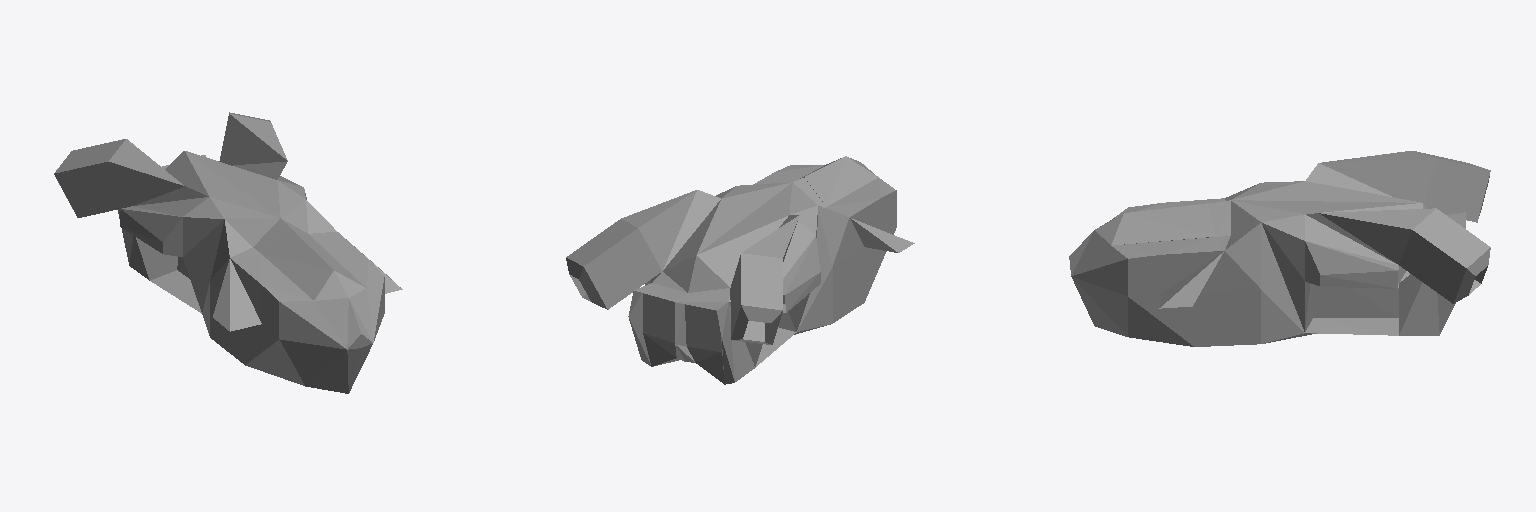
The model's file is destroyer.obj.
3 views of the same model, side by side, from view 1: azimuth 30°, elevation 25°; view 2: azimuth 150°, elevation 25°; view 3: azimuth 270°, elevation 25° (orthographic).
Size of the model in its own units: 15.16 by 9.69 by 25.46.